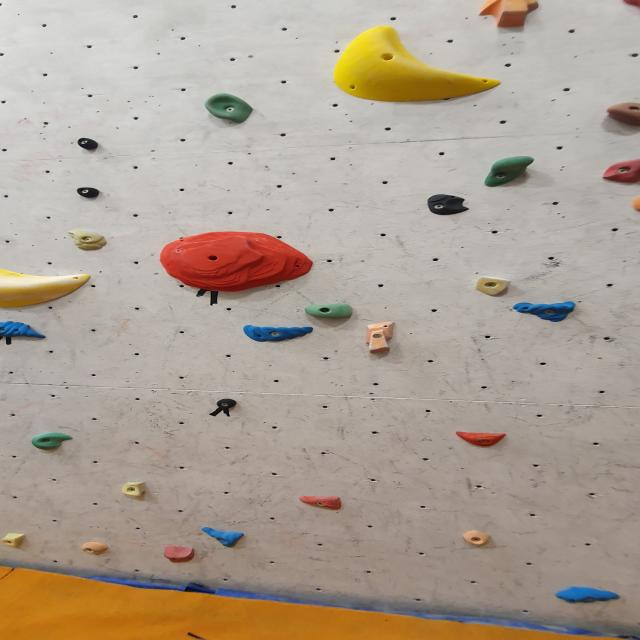Crimp: (157, 234, 319, 297), (552, 587, 622, 605), (240, 327, 318, 343), (511, 303, 578, 319), (66, 230, 109, 252), (451, 431, 510, 447), (1, 320, 50, 338), (200, 528, 247, 546), (474, 278, 512, 298), (296, 495, 346, 510), (459, 530, 493, 547), (120, 483, 150, 499), (81, 540, 112, 555), (0, 532, 28, 548)
Jug: (480, 156, 538, 189), (202, 93, 258, 125), (600, 159, 640, 185), (603, 101, 640, 128), (303, 303, 355, 321), (31, 432, 76, 451)
Pinch: (483, 0, 545, 30), (360, 318, 399, 359), (211, 396, 245, 415), (69, 133, 100, 153), (72, 186, 104, 199)
Sloper: (326, 26, 502, 106), (0, 258, 93, 312), (420, 192, 484, 219), (161, 544, 198, 562), (629, 194, 640, 216)
